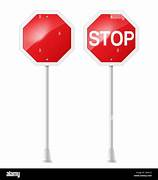stop: (84, 11, 140, 67)
